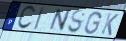C: (15, 5, 36, 31)
G: (83, 11, 103, 35)
I: (32, 6, 46, 31)
K: (100, 13, 120, 37)
N: (47, 9, 72, 33)
S: (66, 9, 87, 35)
